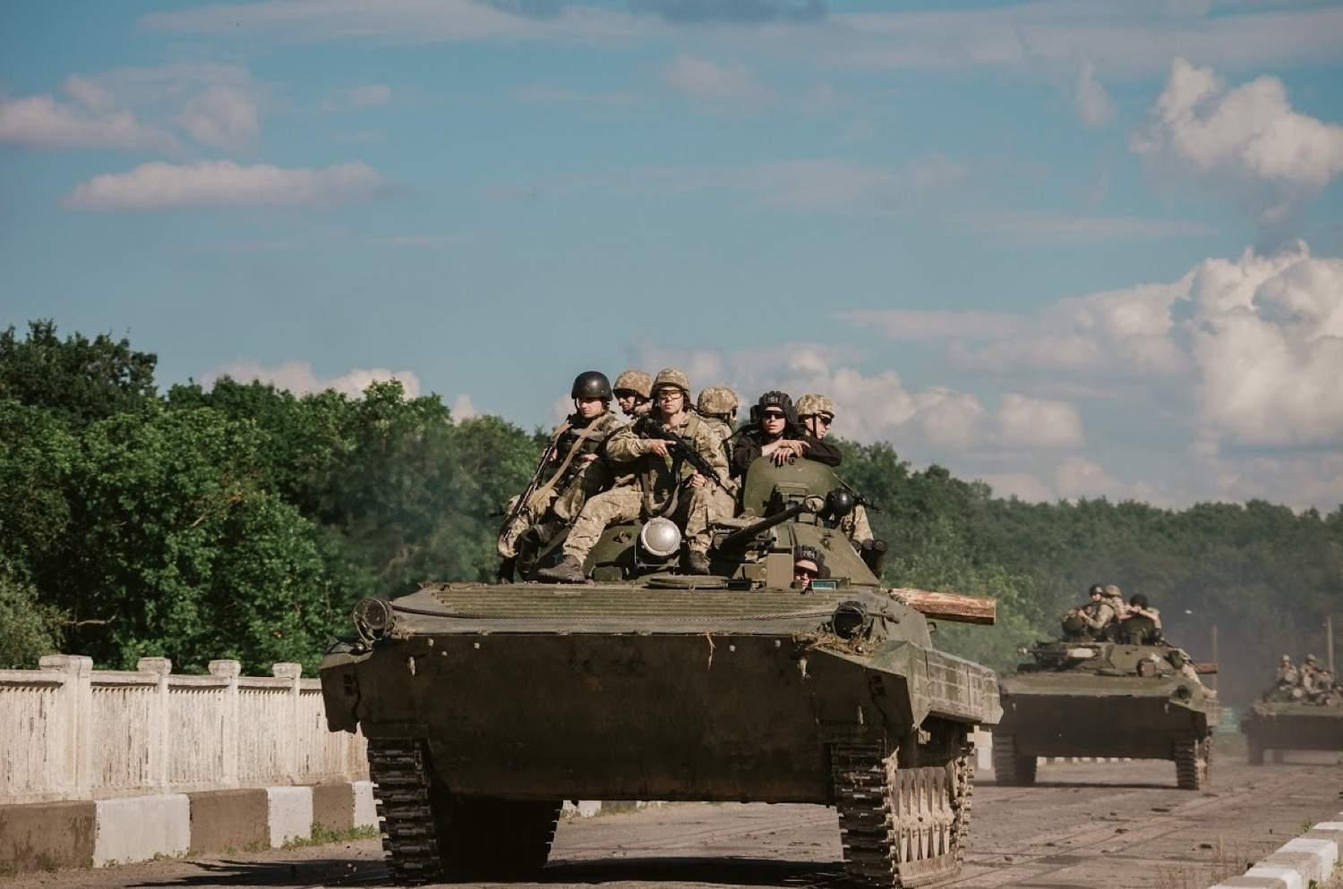person: (497, 361, 620, 552), (628, 372, 738, 544), (1065, 583, 1119, 643), (1118, 595, 1162, 630), (1298, 653, 1330, 694), (1275, 652, 1298, 689)
tank: (326, 499, 1001, 888), (993, 612, 1224, 791), (1238, 682, 1343, 769)
